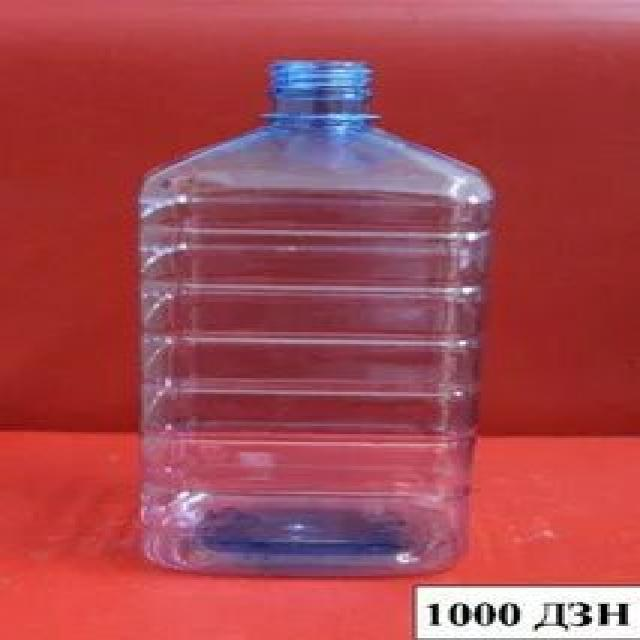blue: (140, 59, 501, 574)
